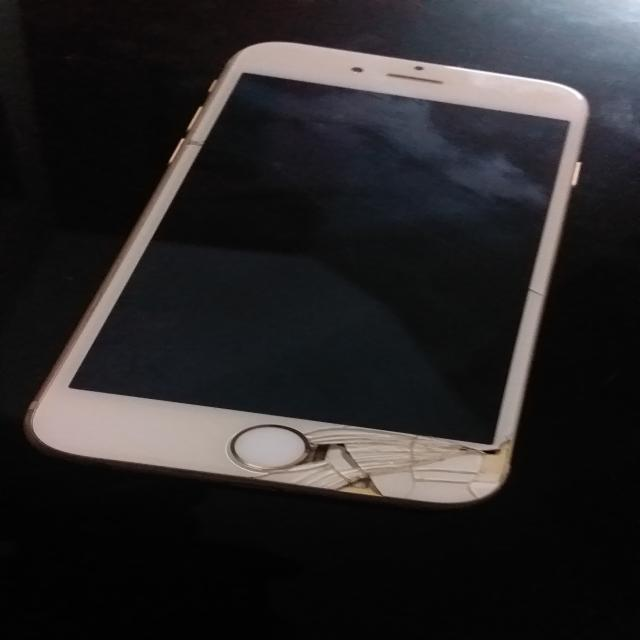screen crack: (234, 396, 535, 529)
